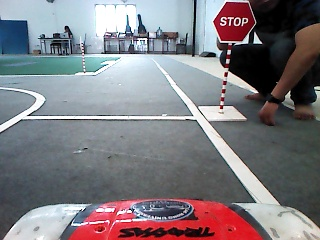stop: (212, 1, 257, 42)
